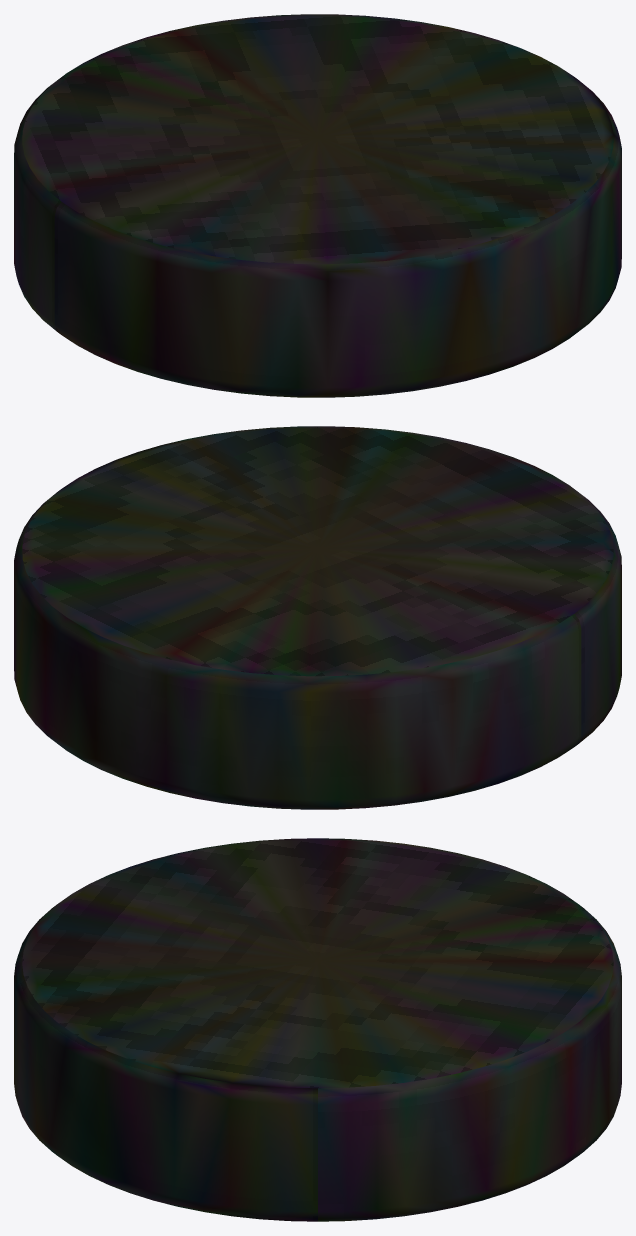
The model's file is HockeyPuck_SM.glb.
3 views of the same model, one above another, from view 1: azimuth 30°, elevation 25°; view 2: azimuth 150°, elevation 25°; view 3: azimuth 270°, elevation 25° (orthographic).
Parts seen in each view (by area): view 1: HockeyPuck_SM; view 2: HockeyPuck_SM; view 3: HockeyPuck_SM.
Boxes of the visible parts, box(x1,y1,x2,y2) form: HockeyPuck_SM: box(14, 14, 621, 397); HockeyPuck_SM: box(14, 426, 621, 809); HockeyPuck_SM: box(14, 838, 621, 1221).
Bounding box in the file's own units: 2.23 × 0.5584 × 2.23.
1 material, 1 textured.
